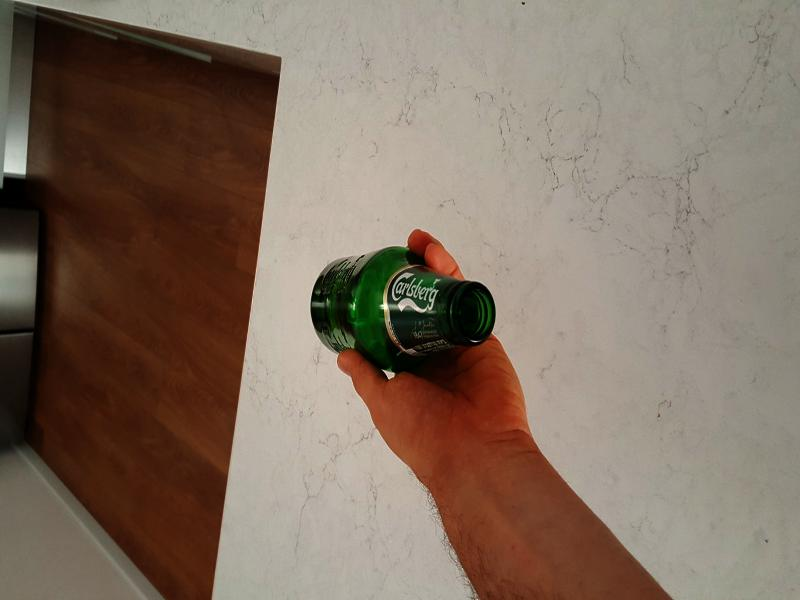Beer: (309, 248, 495, 370)
